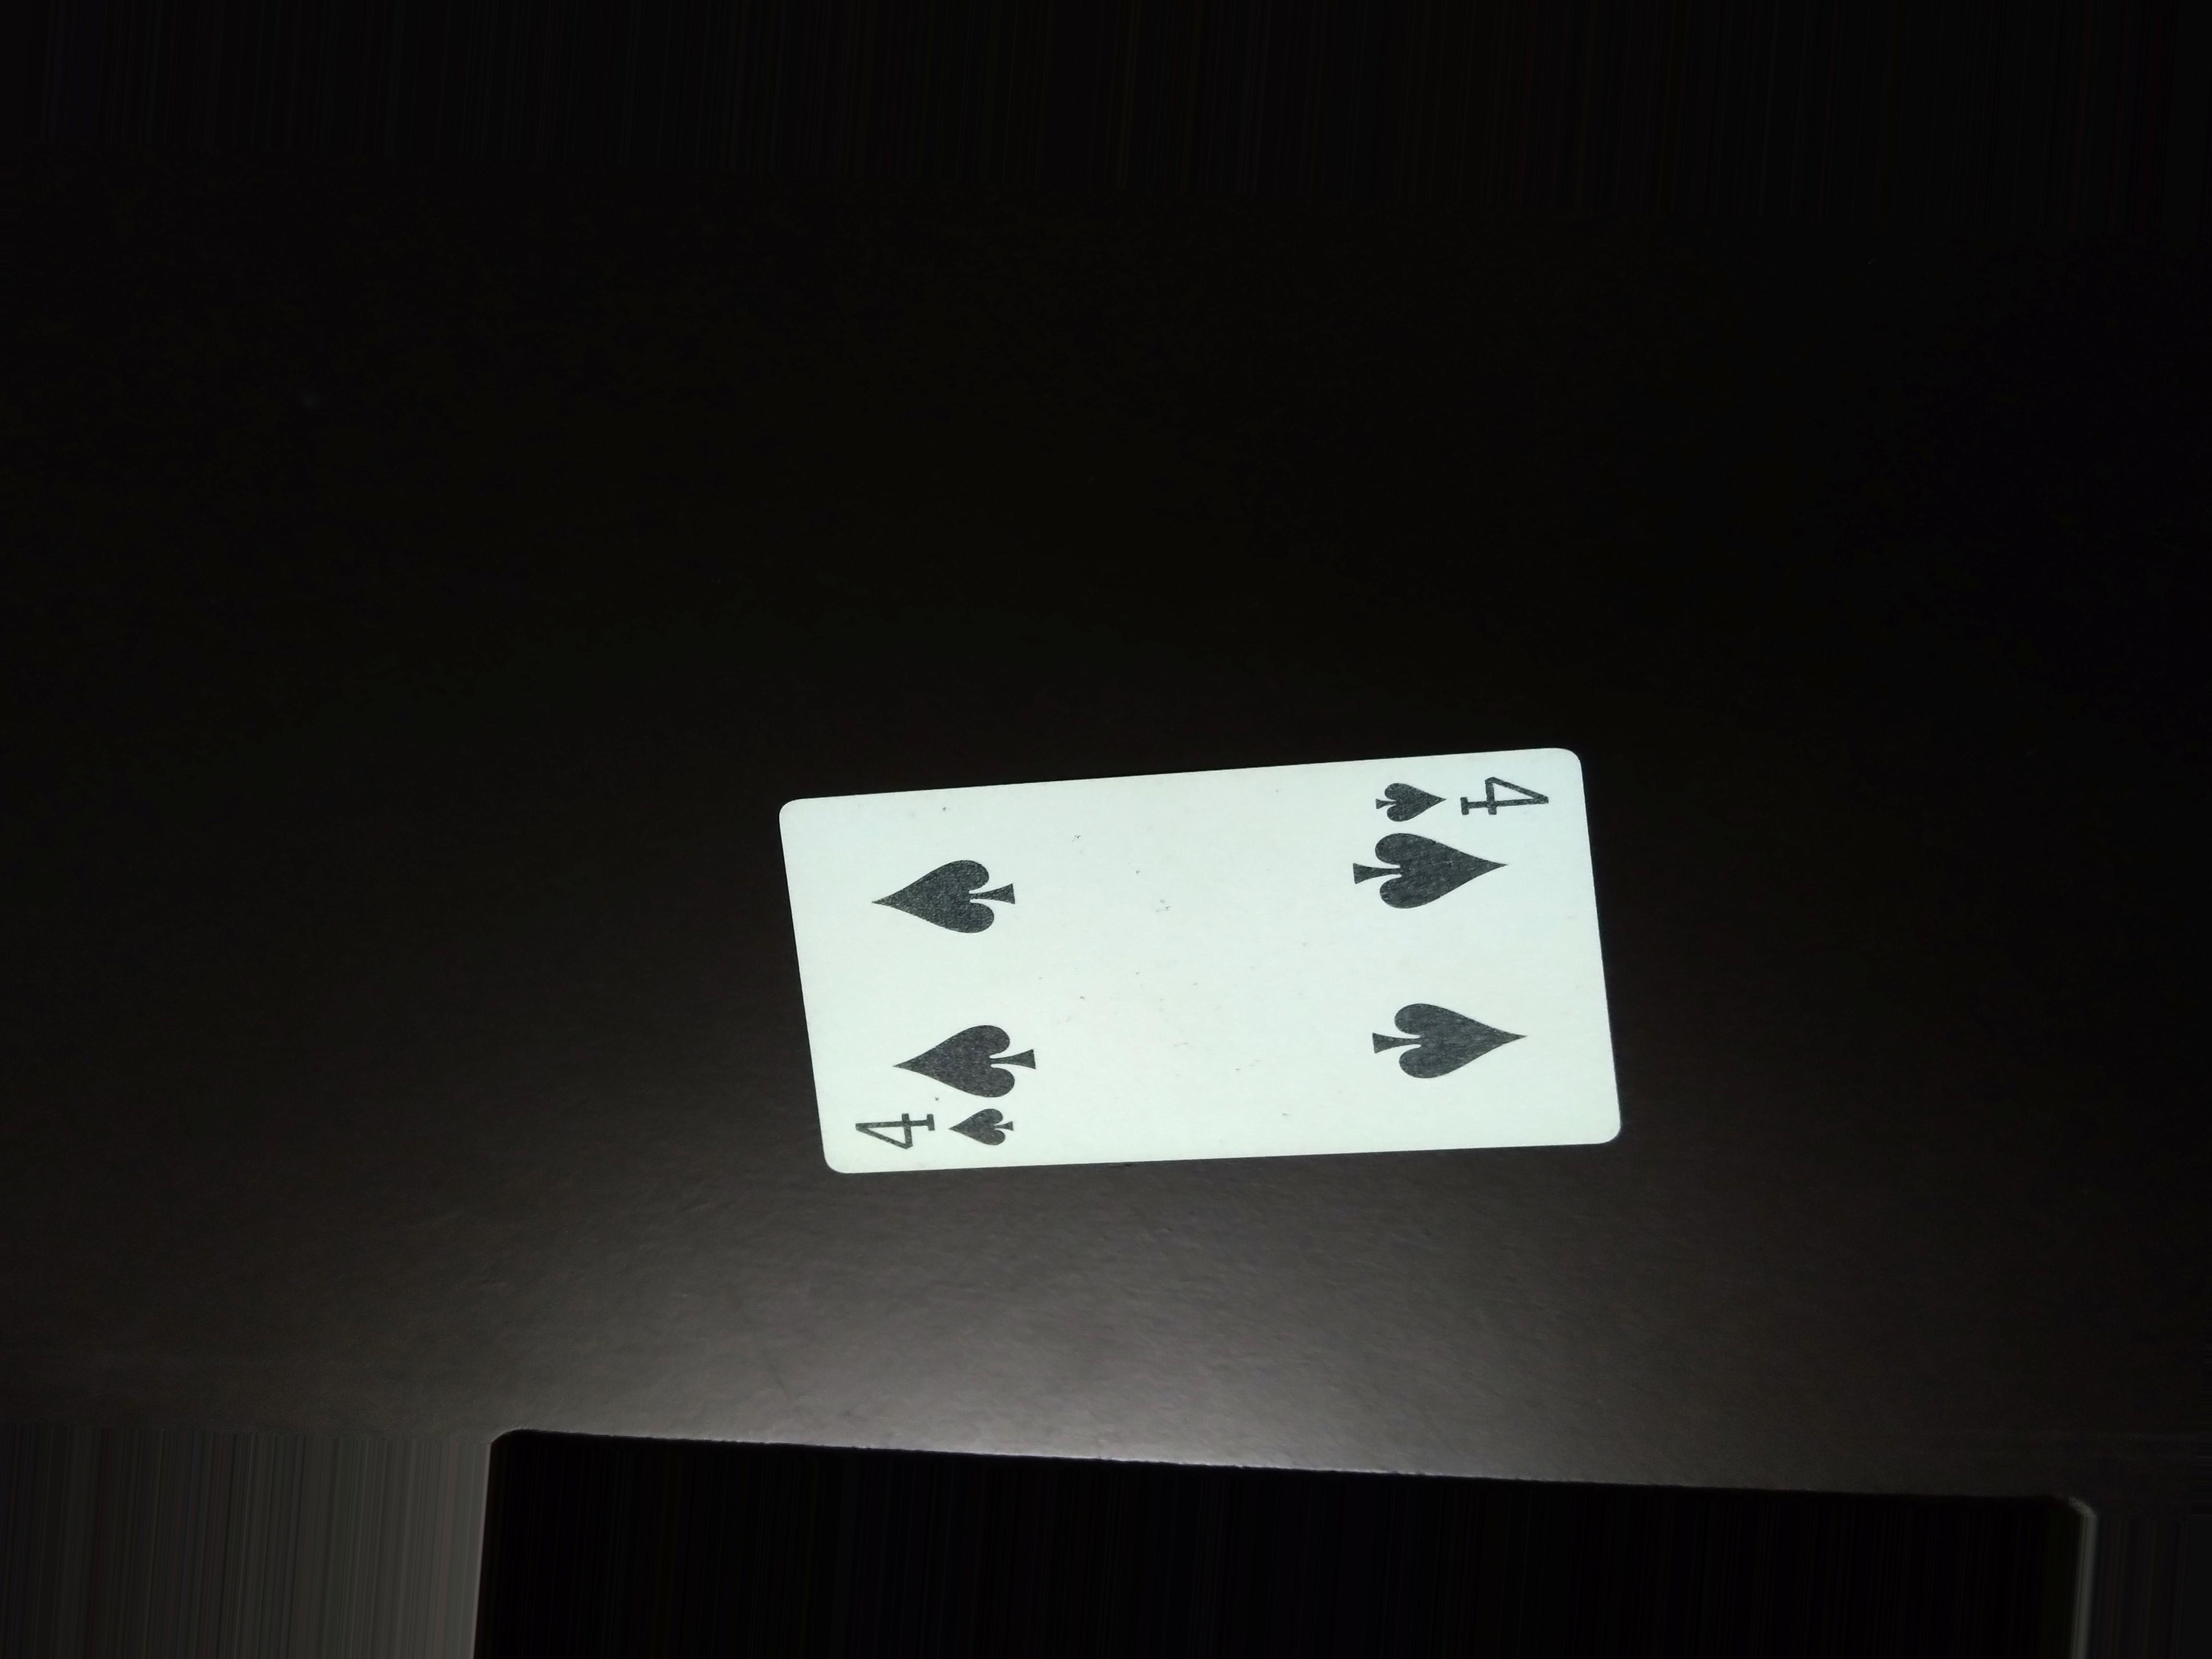4S: (1339, 760, 1554, 835)
